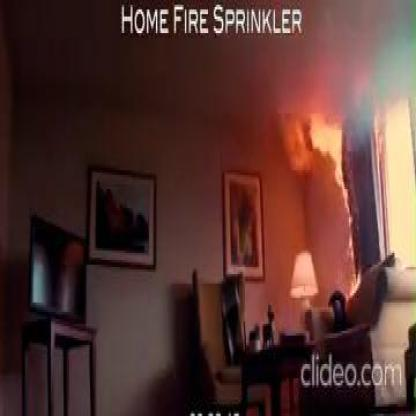fire: (281, 109, 350, 189), (334, 163, 360, 291), (373, 85, 393, 158)
